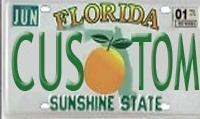placa de veiculo: (1, 1, 200, 118)
